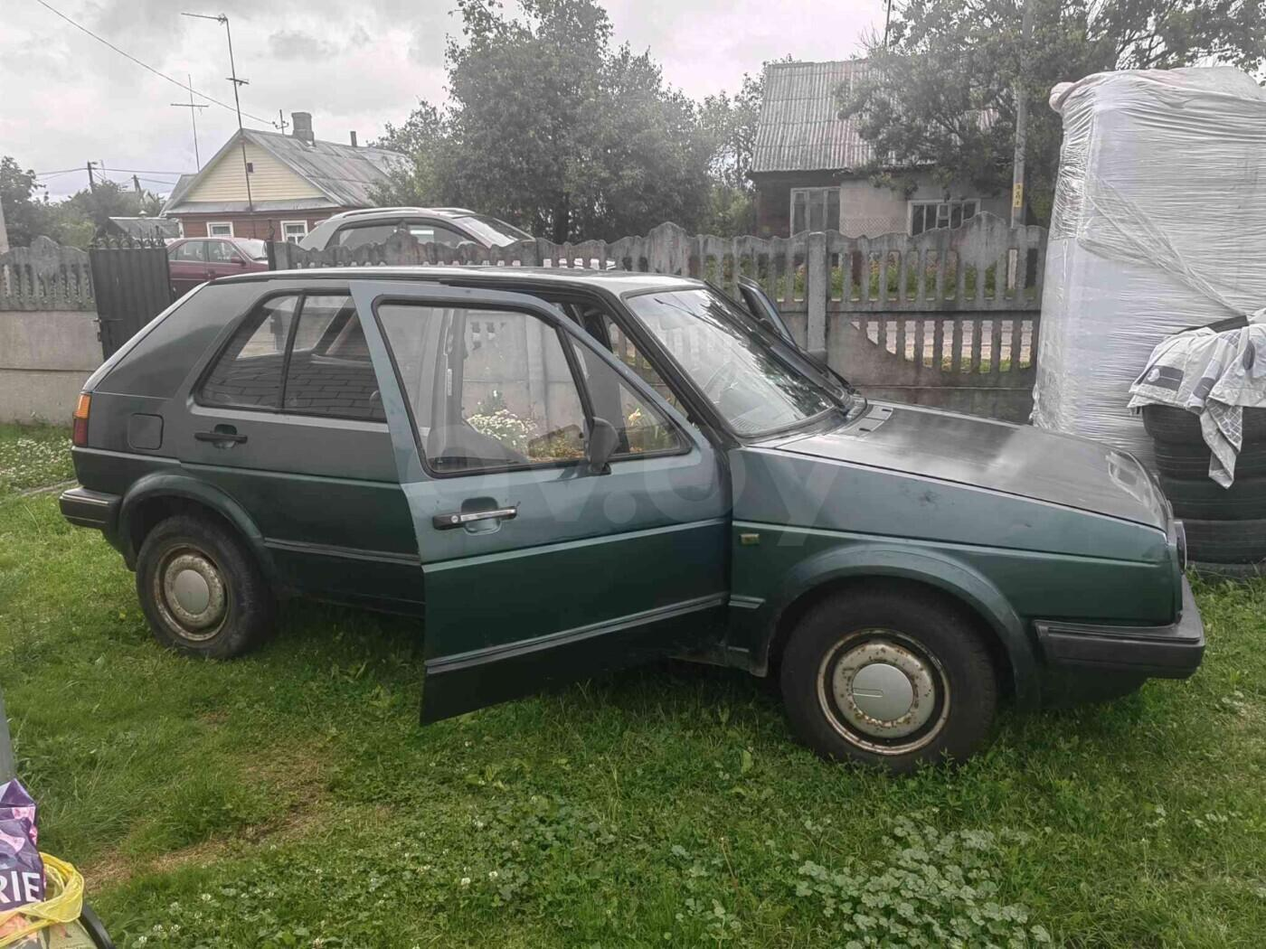Golf_1983-1992: (52, 256, 1213, 764)
